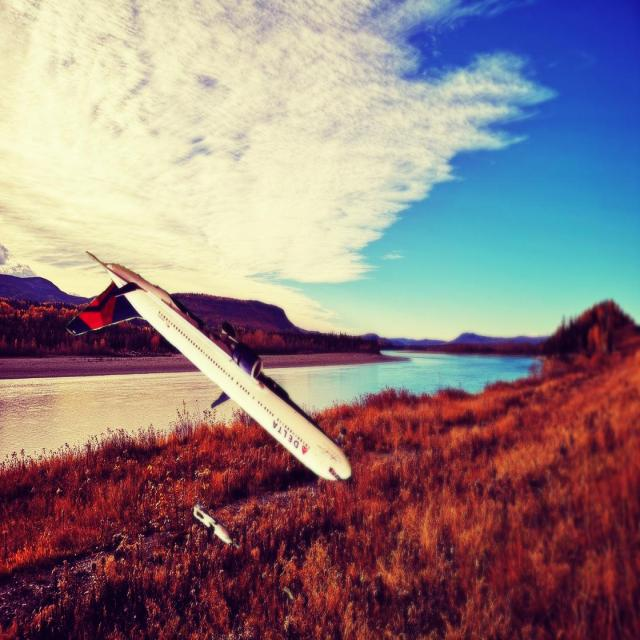airplane: (65, 250, 352, 482)
